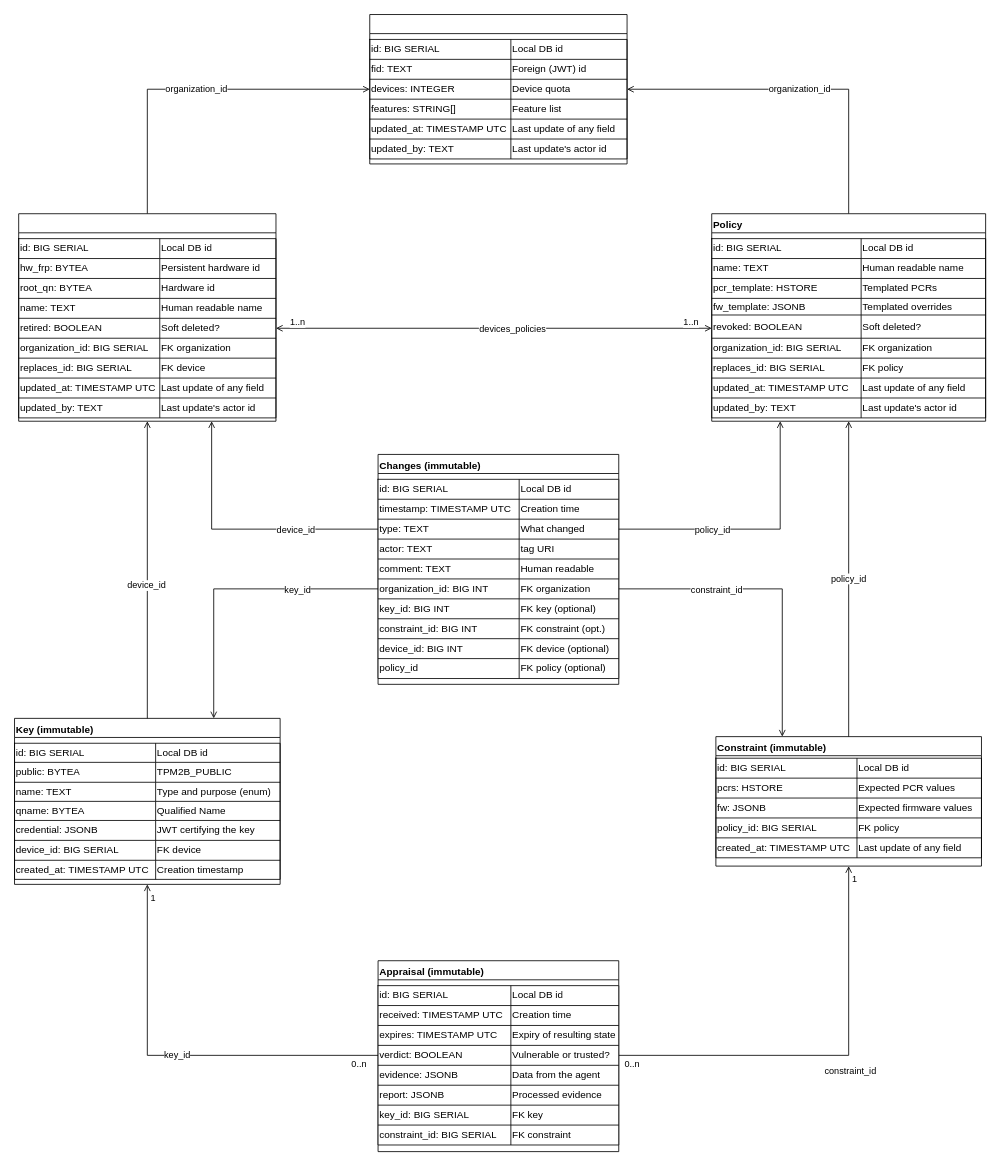
Some shapes in this 1000 by 1166 pixel diagram are drawn without their labels. Each missing label, with the centre of its shape:
"Device" belongs at [147,317].
"Organization" belongs at [498,89].
